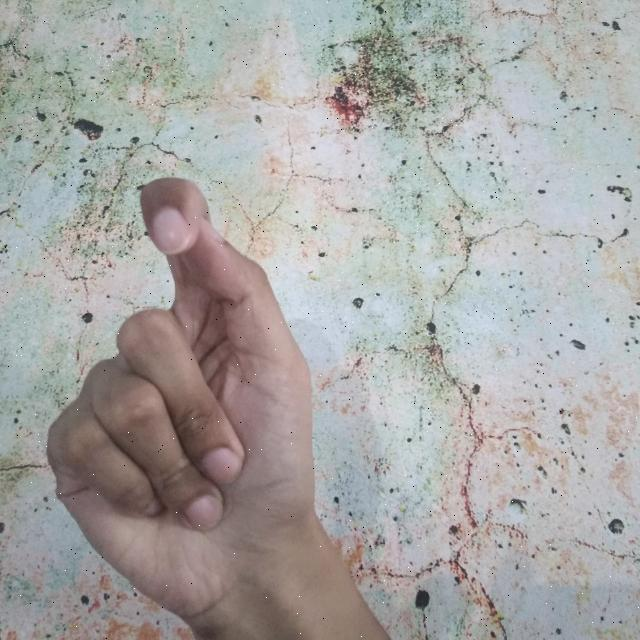T: (40, 169, 405, 640)
